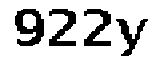2: (47, 8, 82, 51), (83, 6, 114, 50)
9: (11, 8, 46, 48)
y: (116, 16, 148, 60)
